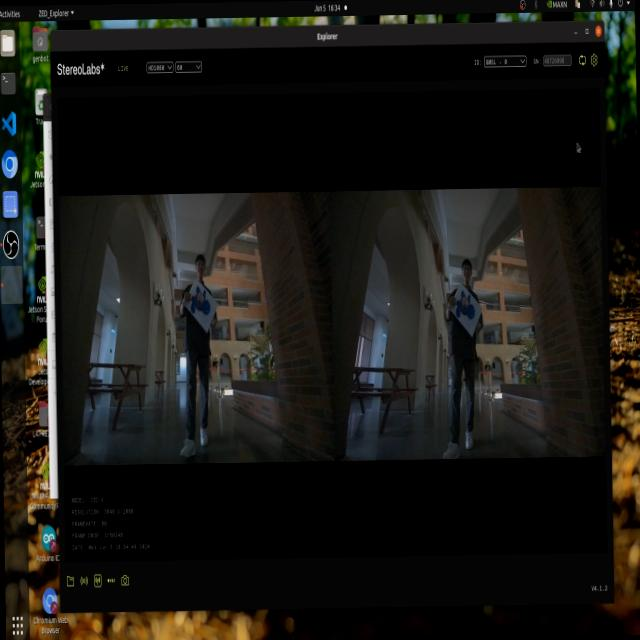blue: (456, 282, 480, 326), (189, 284, 214, 321)
